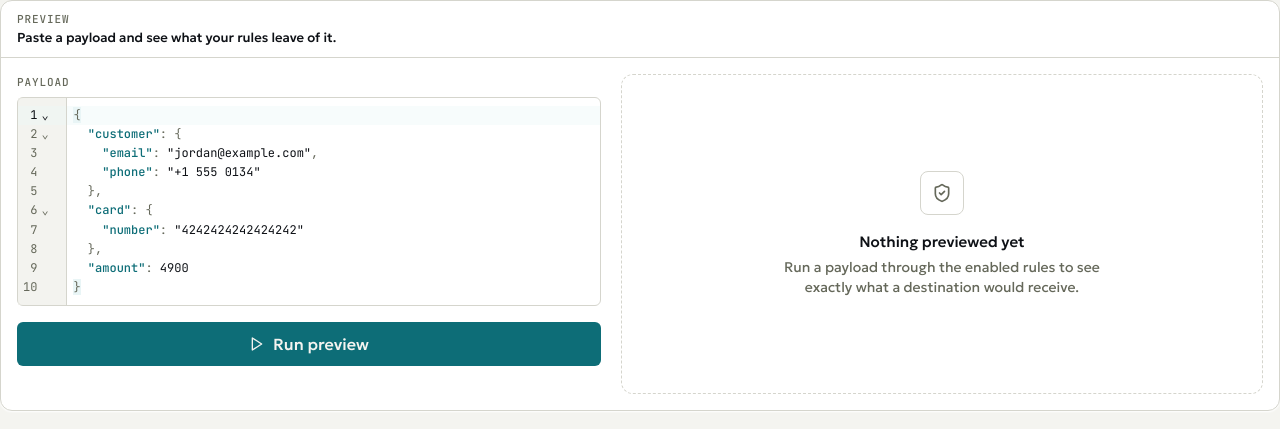
Test: PiiPreview › shows what the rules actually did, not an illustration of what they might do
Click the button "Run preview". click: (309, 344)
box: [17,322,601,366]
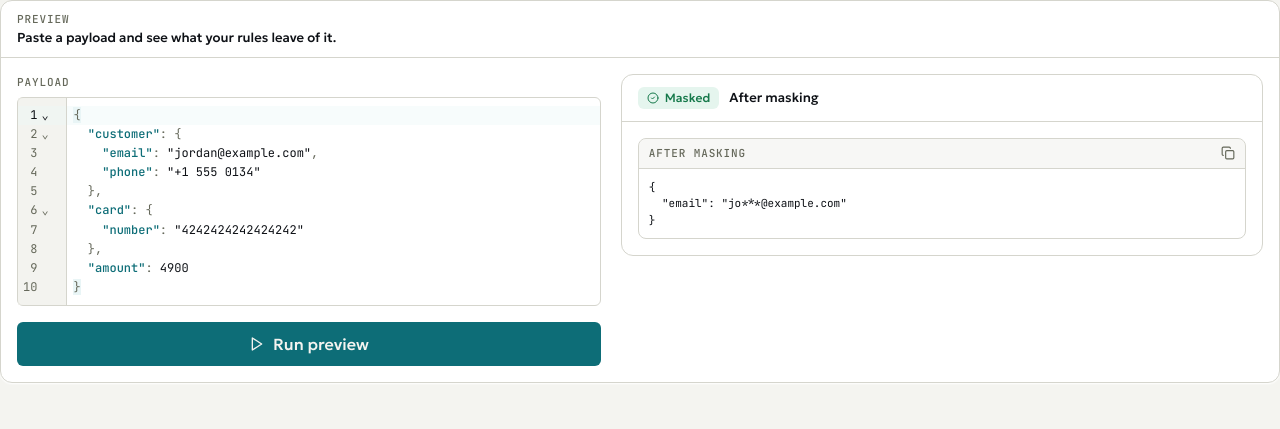
Result: the text "{ \"email\": \"jo***@example.com\" }" is shown at [649,180,847,226]
